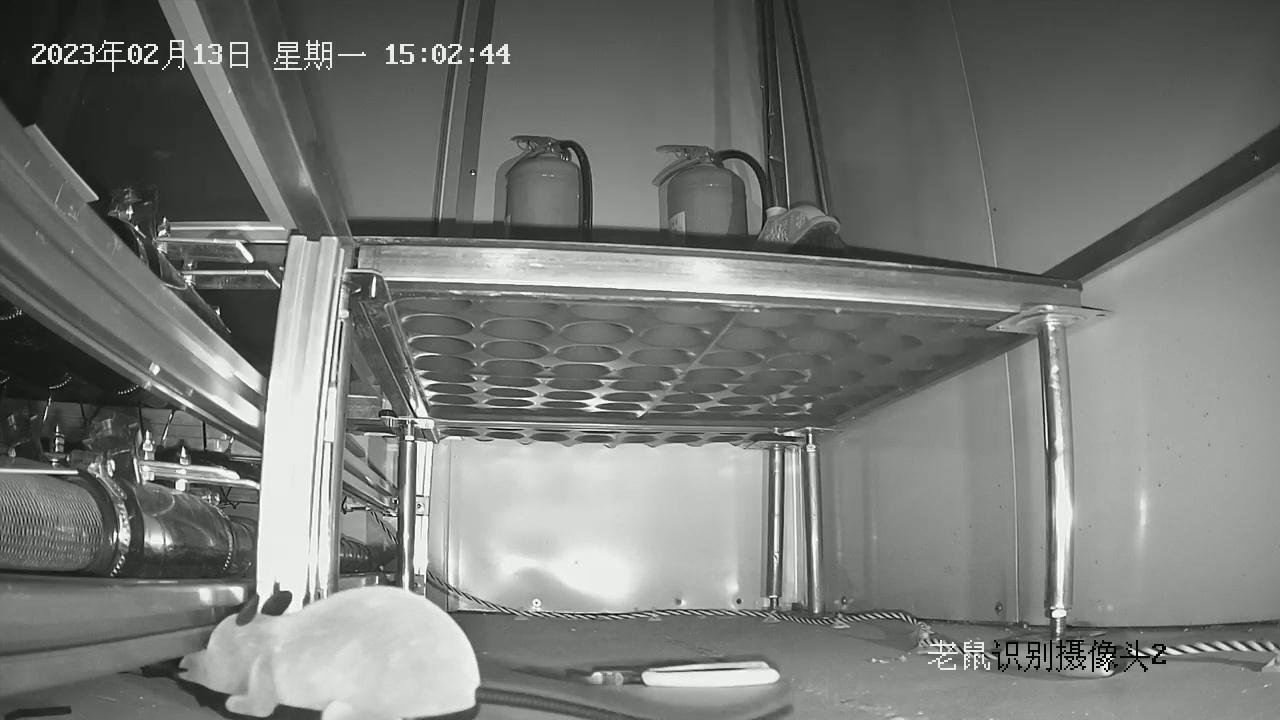rat: (177, 582, 652, 720)
